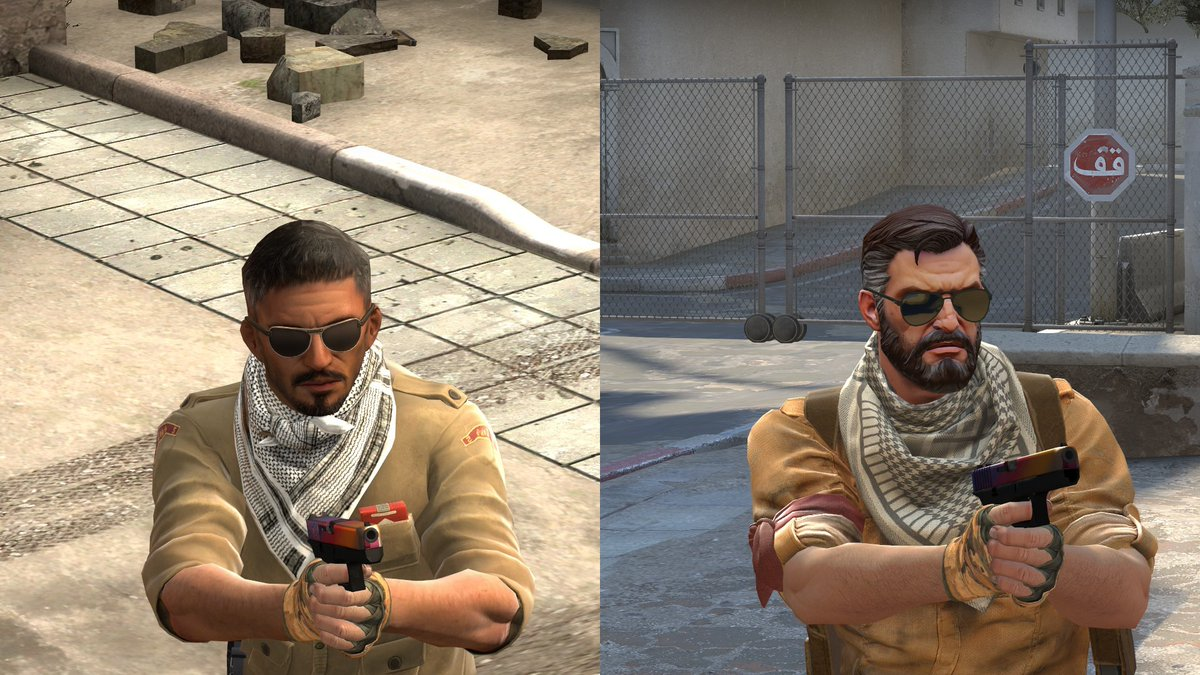t: (754, 193, 1156, 675), (158, 210, 527, 675)
th: (241, 214, 384, 429), (852, 199, 997, 407)
